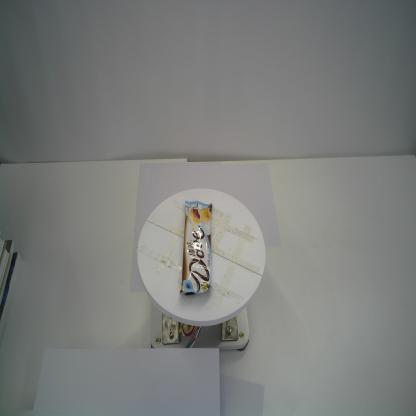Chocolate: (180, 199, 212, 295)
